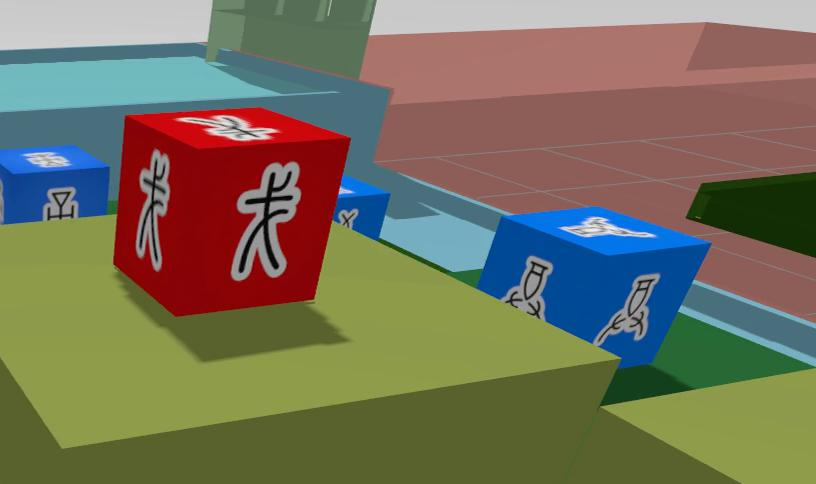KFS_FAKE: (113, 107, 349, 315), (232, 162, 301, 281), (135, 150, 170, 269), (180, 115, 276, 140)
KFS_REAL: (478, 207, 710, 367), (0, 146, 108, 222), (594, 274, 659, 344), (502, 258, 552, 318), (22, 152, 70, 166)
